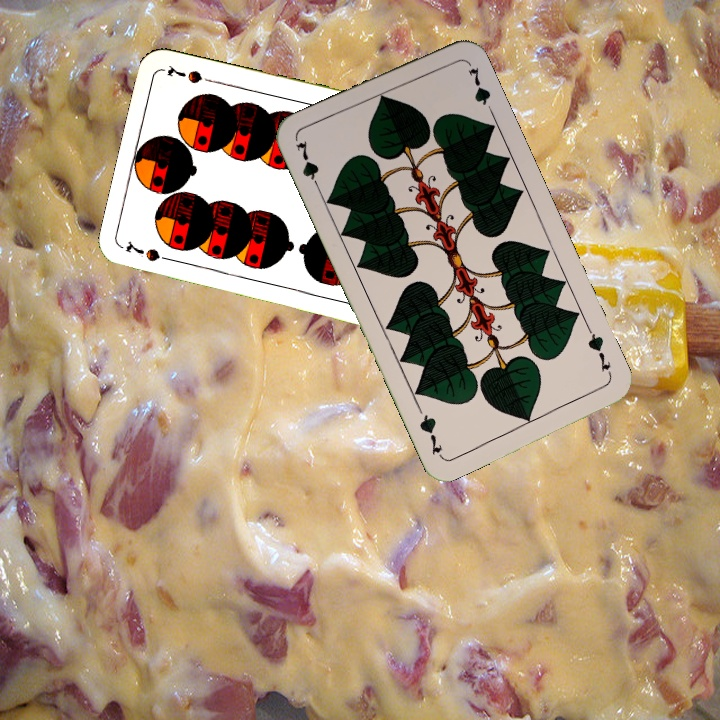G7: (292, 136, 324, 194), (583, 324, 615, 380)
S7: (121, 238, 180, 265)
